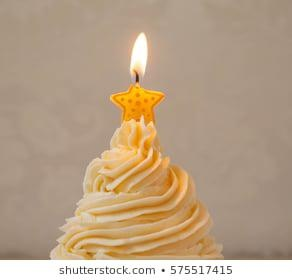fire: (128, 31, 148, 82)
